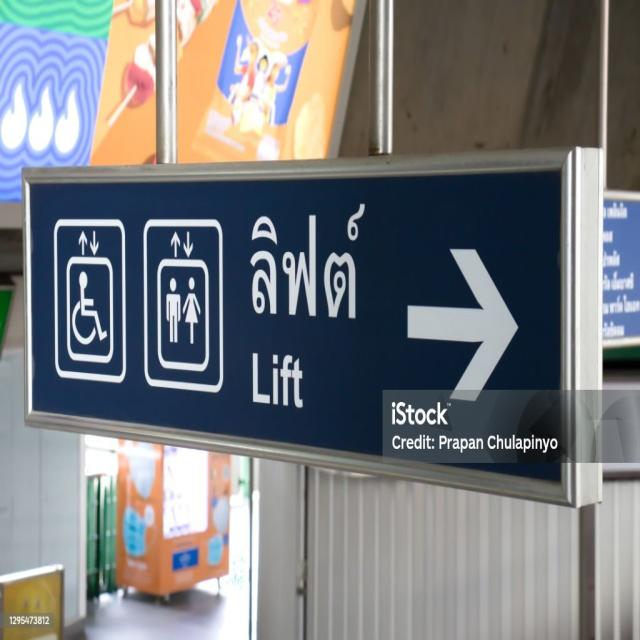lift_icon: (49, 208, 230, 402)
